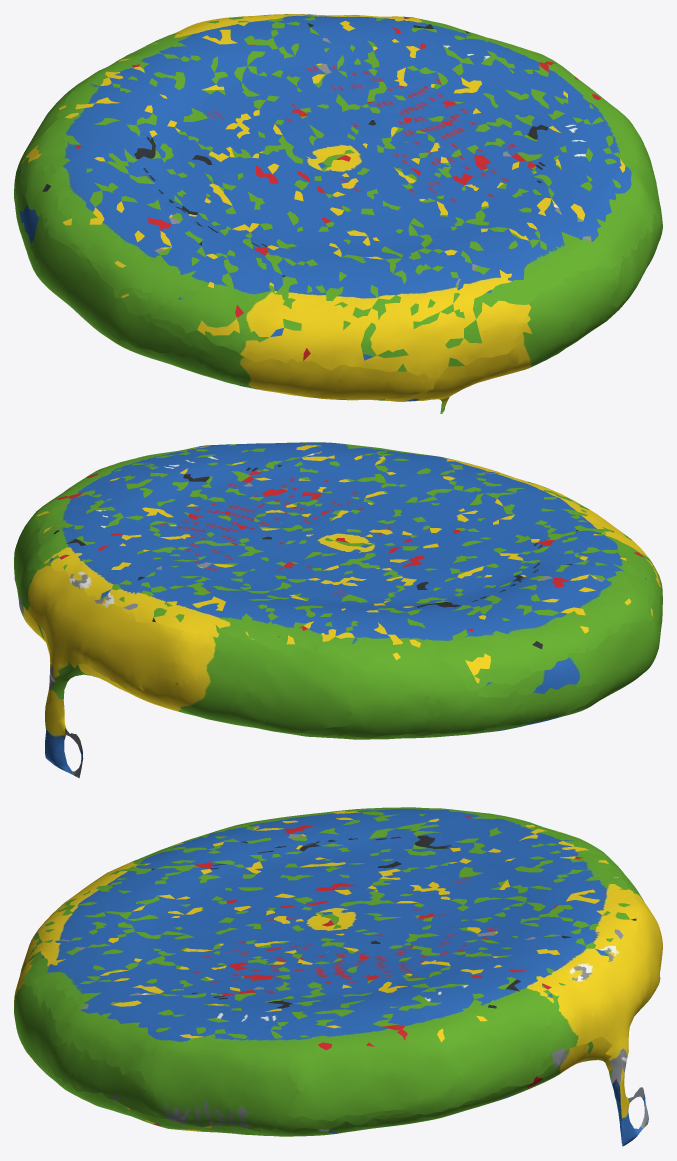
The model's file is bouncer-xxl.glb.
3 views of the same model, one above another, from view 1: azimuth 30°, elevation 25°; view 2: azimuth 150°, elevation 25°; view 3: azimuth 270°, elevation 25° (orthographic).
Visible parts, largest first — view 1: geometry_0; view 2: geometry_0; view 3: geometry_0.
Boxes of the visible parts, x1=… form: geometry_0: x1=14, y1=14, x2=662, y2=413; geometry_0: x1=14, y1=442, x2=662, y2=778; geometry_0: x1=14, y1=807, x2=662, y2=1146.
Size of the model in its own units: 0.9842 by 0.295 by 0.974.
1 material, 1 textured.
